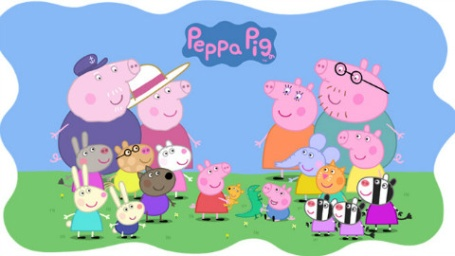Peppa: (189, 158, 235, 222)
